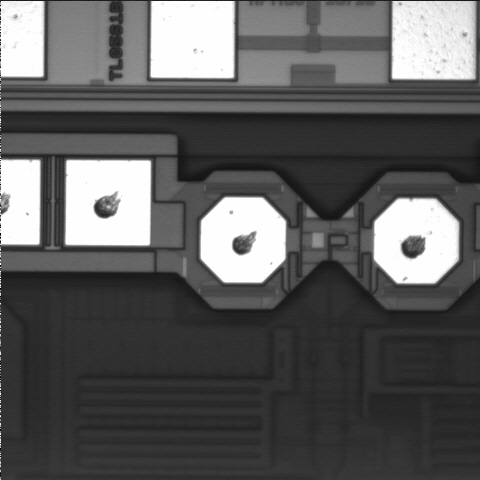pad: (65, 160, 151, 245), (201, 197, 286, 283), (374, 199, 459, 283)
